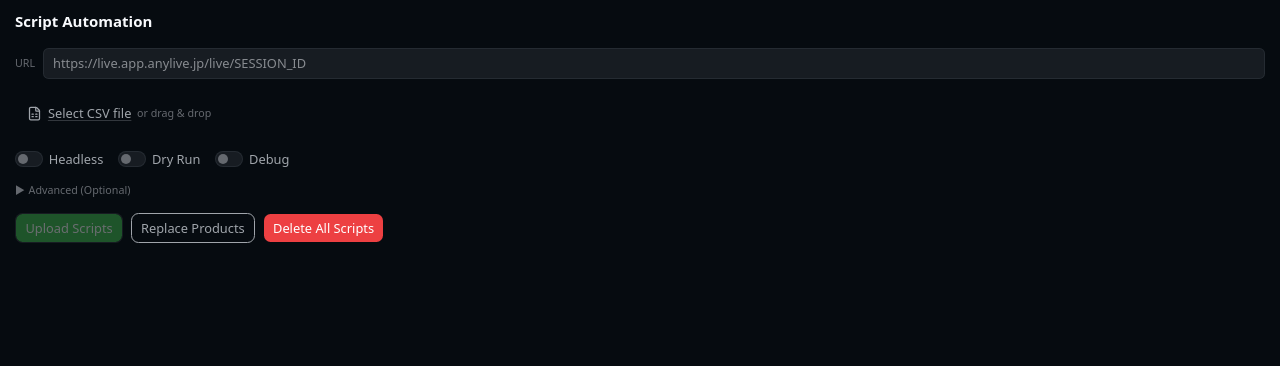
it: ScriptsPanel › hides delete confirmation dialog when cancel clicked
The image size is (1280, 366).
Click the button with test id "delete-scripts-button" at (324, 228), box [263,213,384,243]
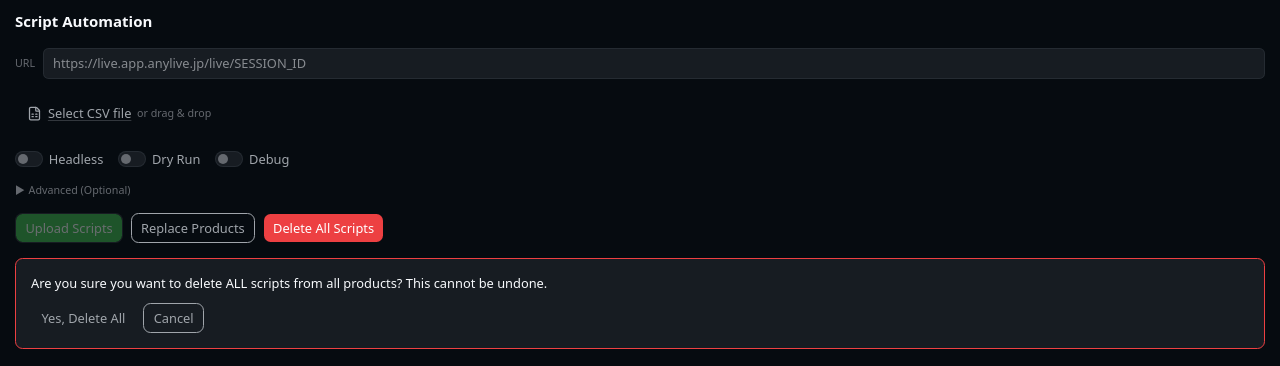
Expected: the element with test id "delete-confirm-dialog" is shown, [15,258,1265,349]
Click the button with test id "cancel-delete-button" at (174, 318), box [143,303,204,333]
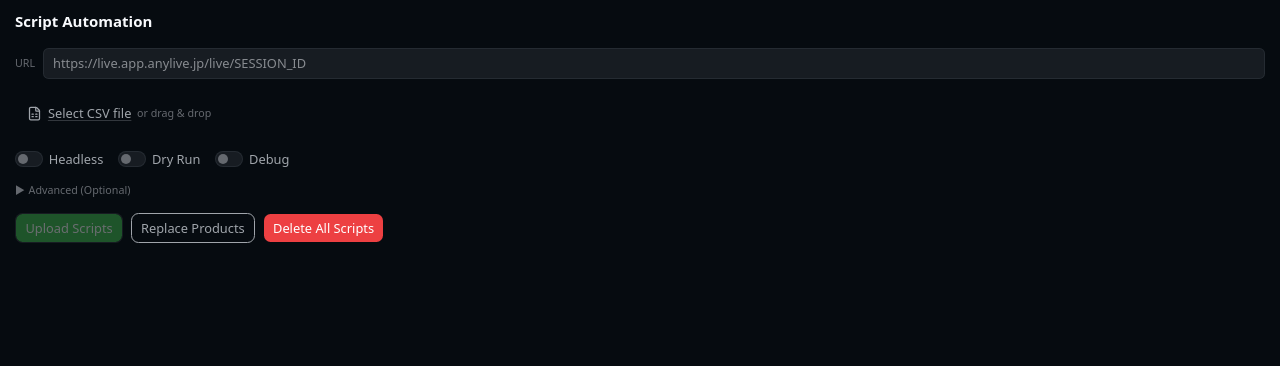
Expected: the element with test id "delete-confirm-dialog" is gone
